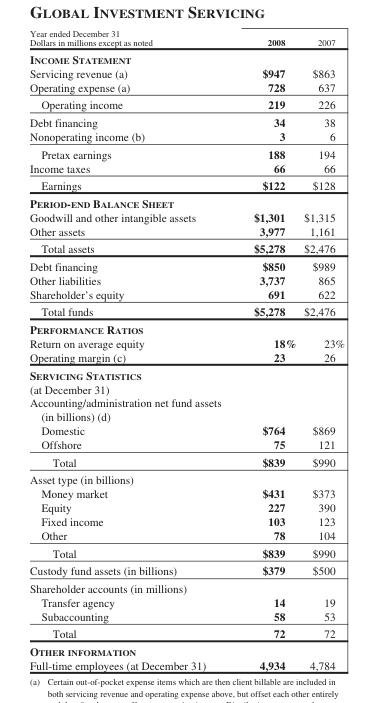table: (29, 28, 344, 671)
table column: (29, 28, 229, 671), (229, 28, 299, 671), (299, 28, 344, 671)
table column header: (29, 28, 344, 49)
table projected row header: (29, 365, 344, 395), (29, 395, 344, 423), (29, 49, 344, 65), (29, 320, 344, 336), (29, 470, 344, 486), (29, 642, 344, 658), (29, 194, 344, 209), (29, 579, 344, 594)
table row: (29, 365, 344, 395), (29, 395, 344, 423), (29, 28, 344, 49), (29, 95, 344, 113), (29, 176, 344, 194), (29, 239, 344, 257), (29, 302, 344, 320), (29, 452, 344, 470), (29, 543, 344, 561), (29, 561, 344, 579), (29, 624, 344, 642), (29, 49, 344, 65), (29, 79, 344, 95), (29, 113, 344, 129), (29, 144, 344, 160), (29, 160, 344, 176), (29, 223, 344, 239), (29, 286, 344, 302), (29, 320, 344, 336), (29, 349, 344, 365), (29, 470, 344, 486), (29, 527, 344, 543), (29, 608, 344, 624), (29, 642, 344, 658), (29, 129, 344, 144), (29, 194, 344, 209), (29, 257, 344, 272), (29, 437, 344, 452), (29, 579, 344, 594), (29, 65, 344, 79), (29, 209, 344, 223), (29, 272, 344, 286), (29, 423, 344, 437), (29, 486, 344, 500), (29, 500, 344, 514), (29, 594, 344, 608), (29, 336, 344, 349), (29, 514, 344, 527), (29, 658, 344, 671)
